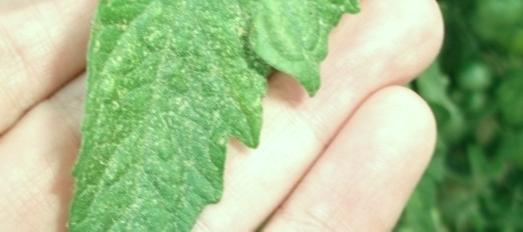Tomato mold leaf: (0, 0, 330, 232)
